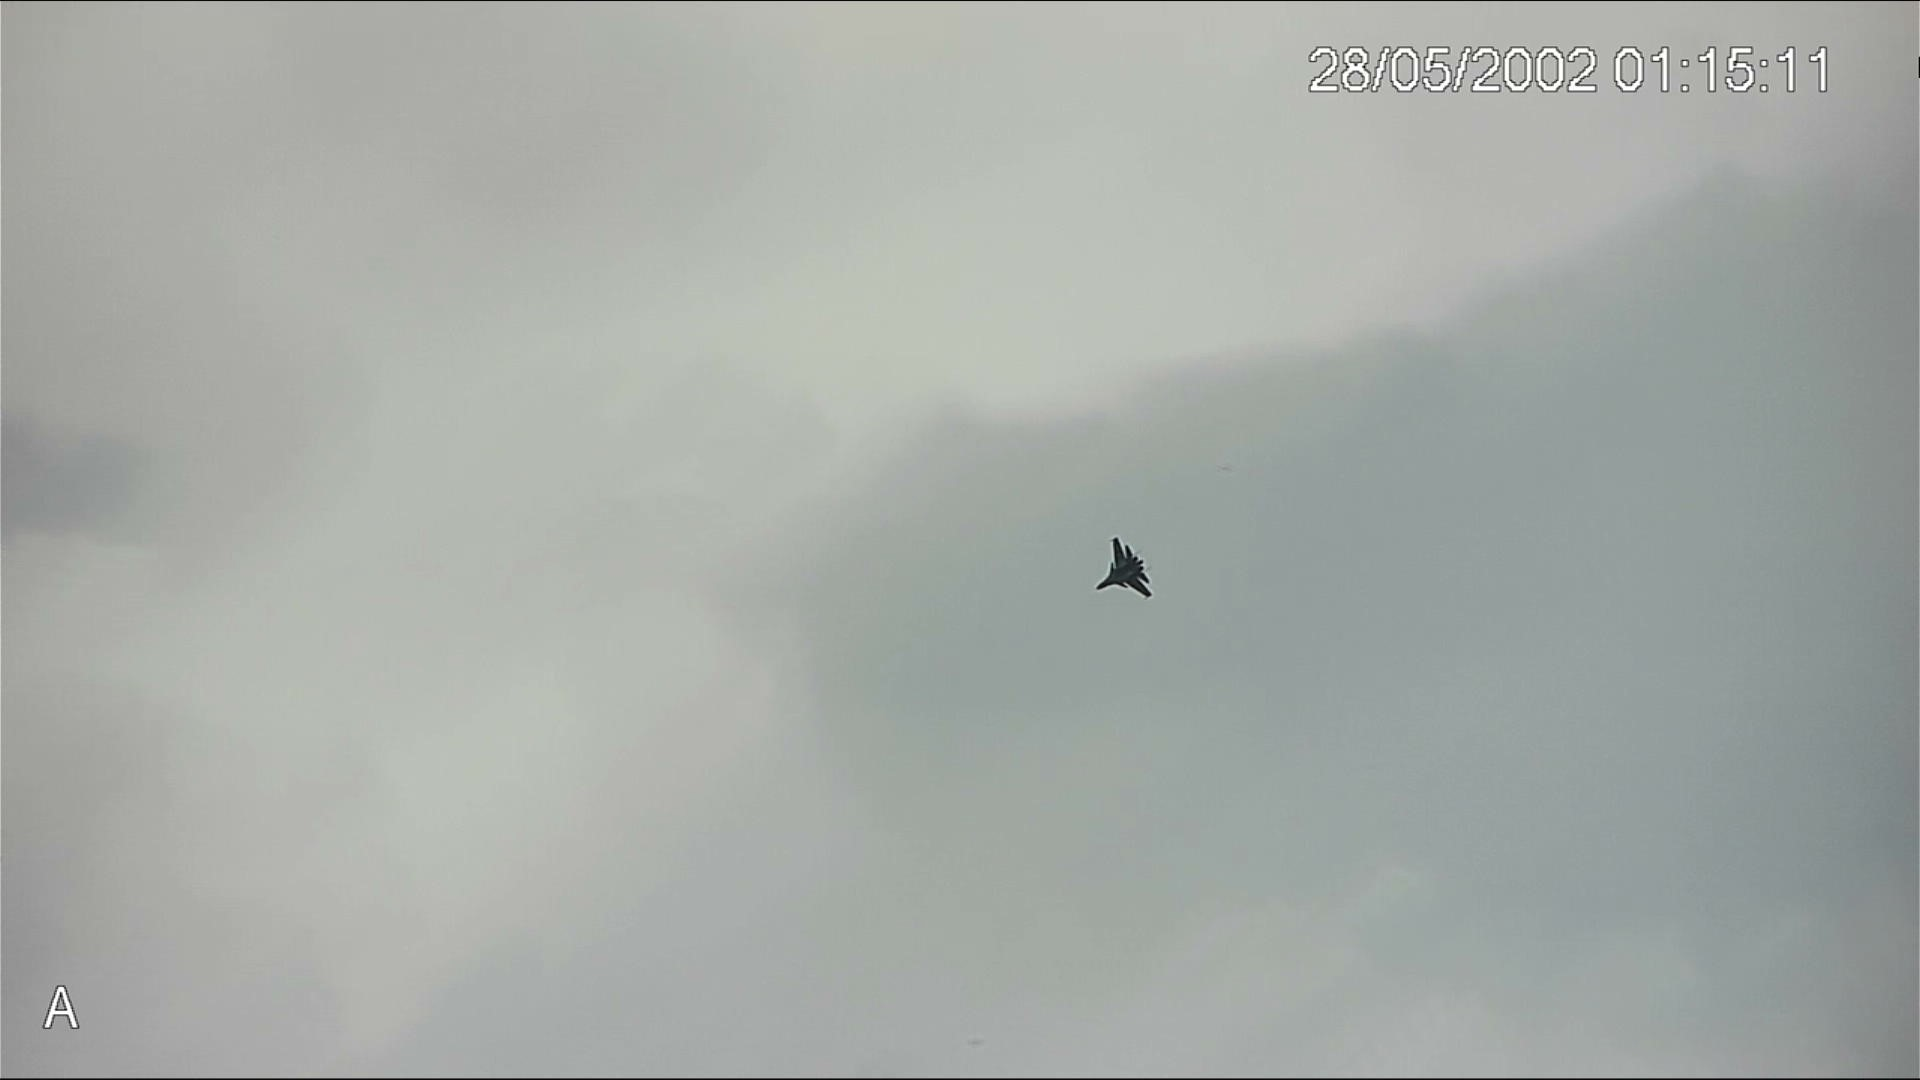SU_30: (1089, 535, 1156, 607)
